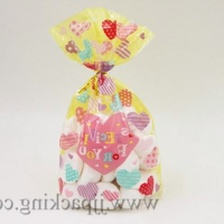snack: (45, 0, 171, 216)
